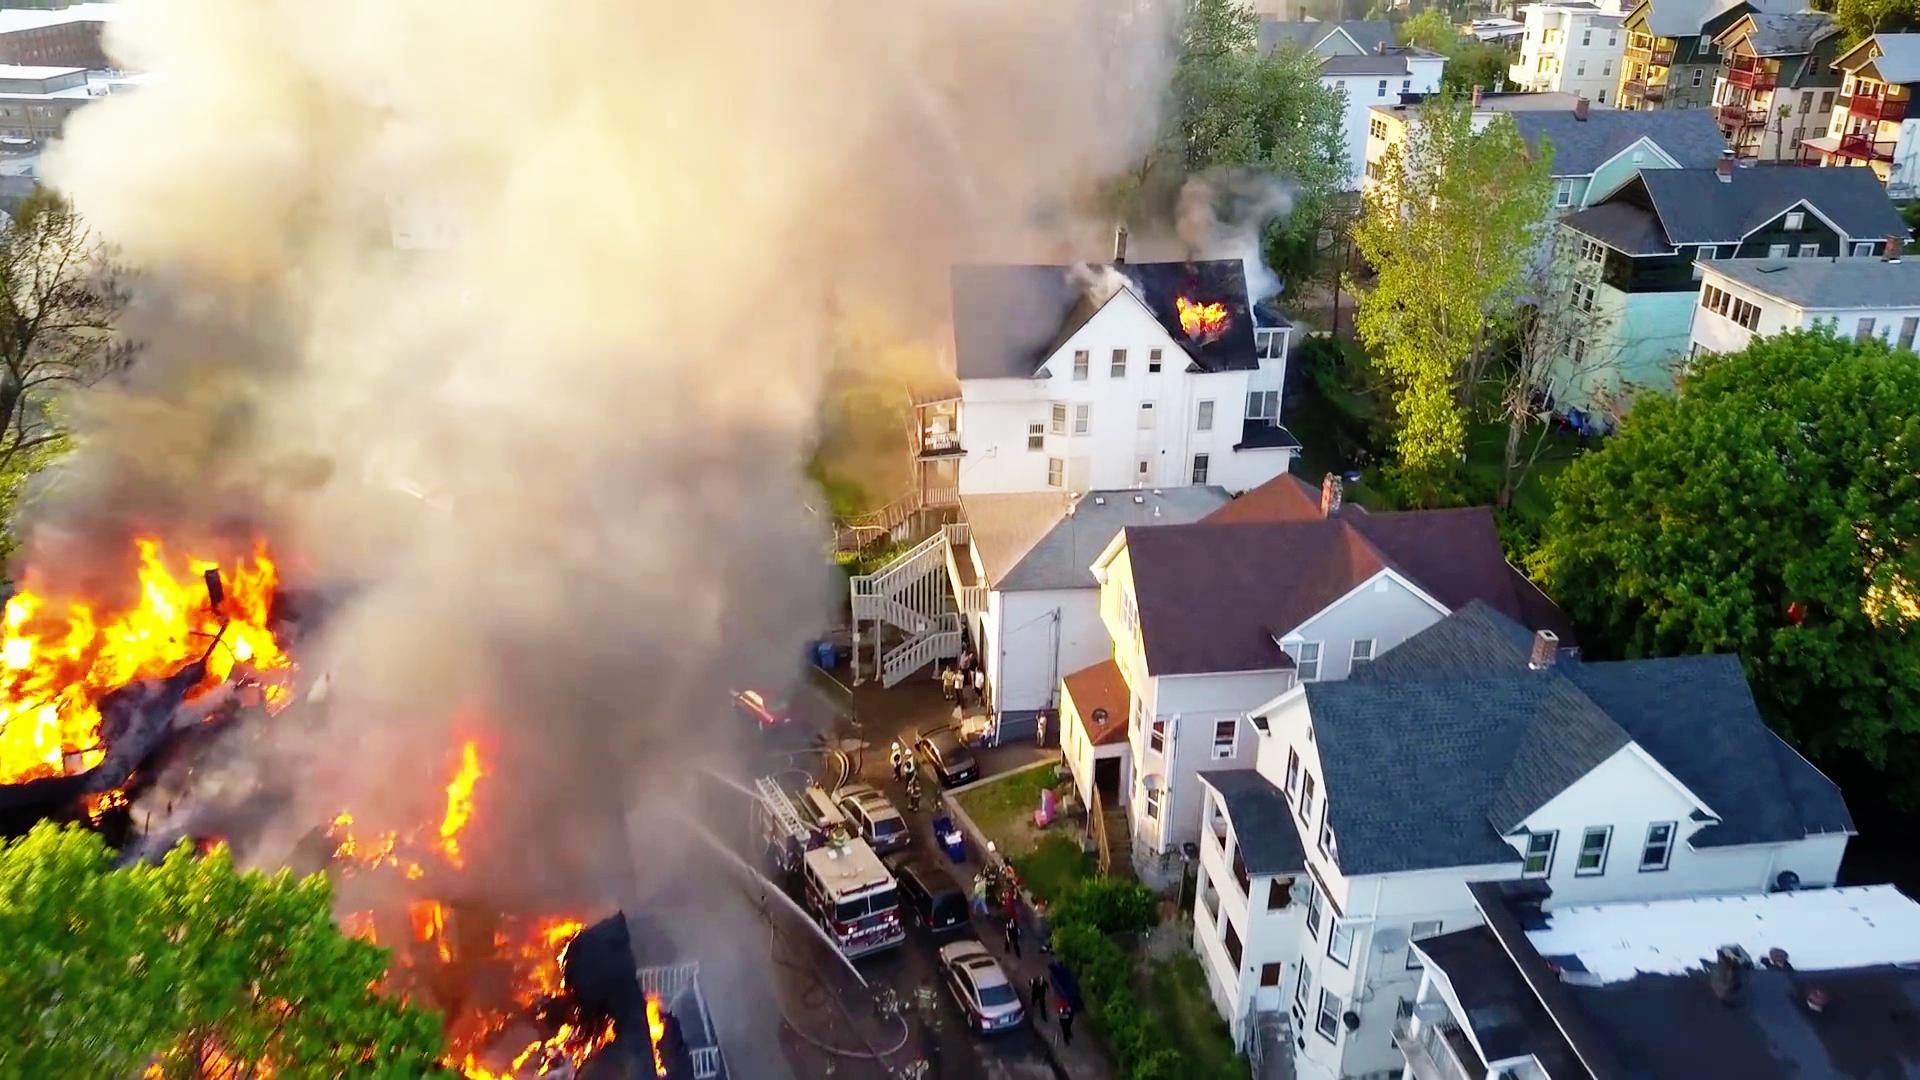fire: (0, 520, 263, 792), (407, 728, 498, 896)
smoke: (307, 0, 683, 756)
